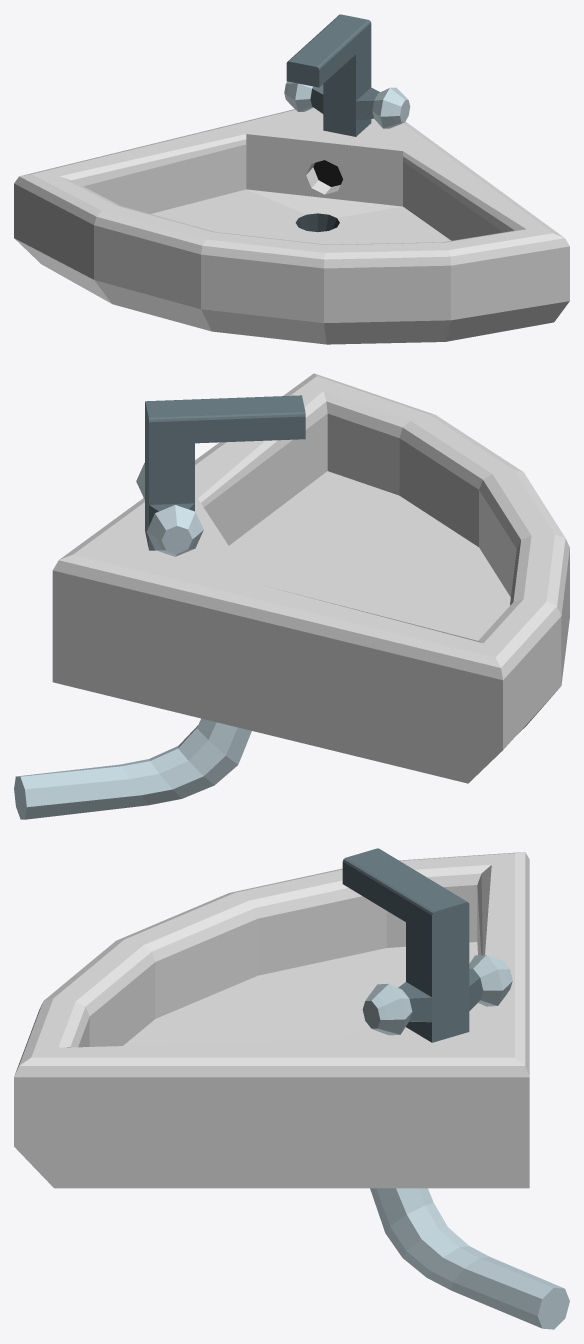
The model's file is SinkCorner.fbx.
3 views of the same model, one above another, from view 1: azimuth 30°, elevation 25°; view 2: azimuth 150°, elevation 25°; view 3: azimuth 270°, elevation 25° (orthographic). The views are drawn at different scales.
Parts seen in each view (by area): view 1: SinkCorner; view 2: SinkCorner; view 3: SinkCorner.
Part boxes in pixels (box(x1,y1,x2,y2)): SinkCorner: box(14, 14, 569, 344); SinkCorner: box(14, 373, 569, 819); SinkCorner: box(14, 848, 569, 1329).
Bounding box in the file's own units: 64.58 × 49.6 × 64.65.
